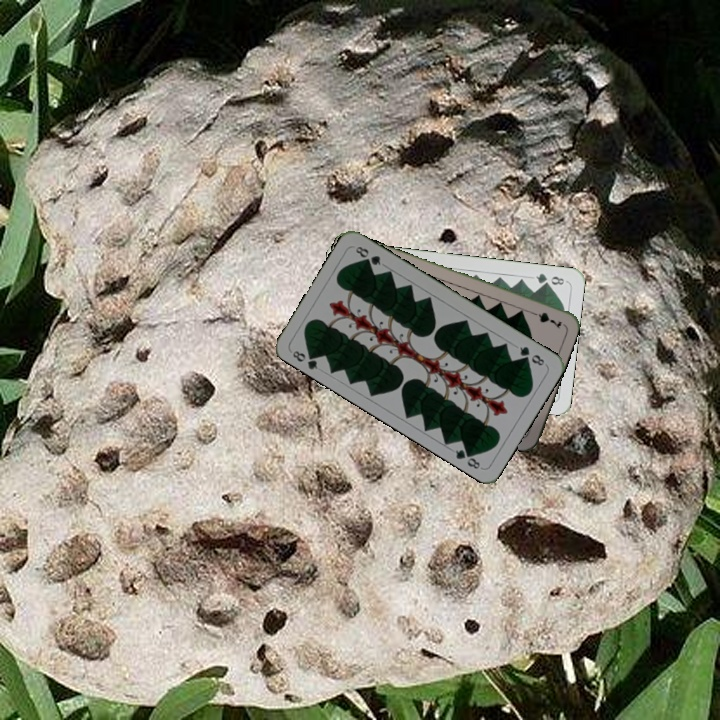G7: (525, 307, 565, 331)
G8: (288, 346, 321, 372), (515, 342, 547, 368), (532, 269, 569, 288)
